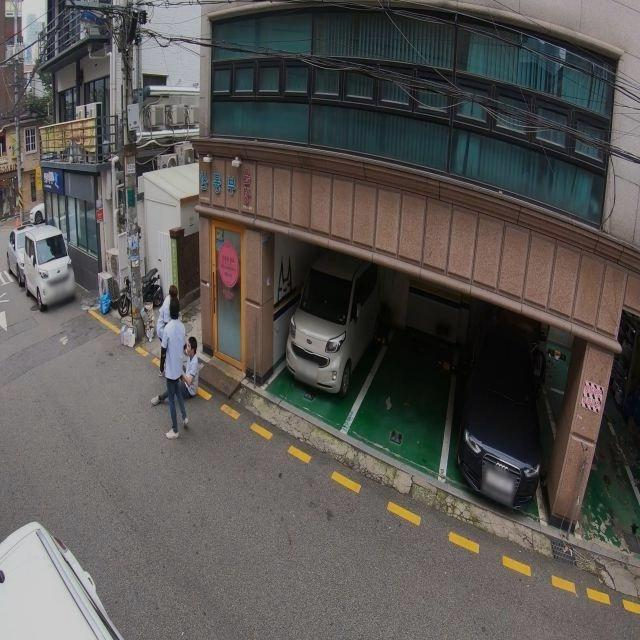fight: (154, 288, 202, 440)
